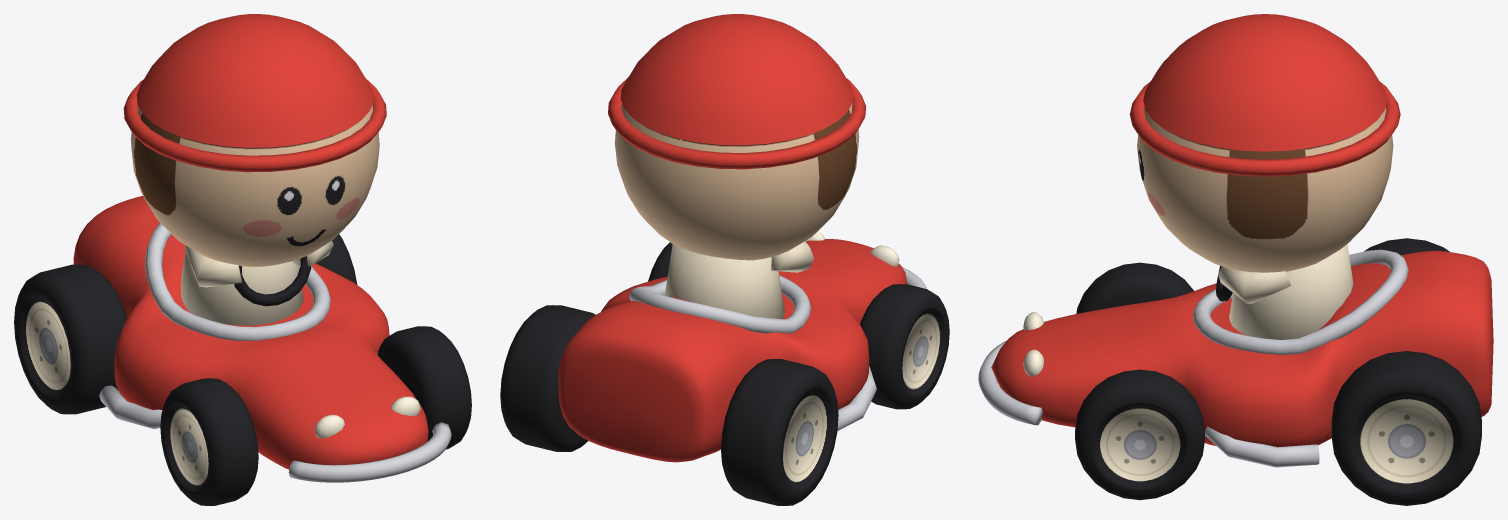
The model's file is racer.glb.
3 renders of one model, left to right at view 1: azimuth 30°, elevation 25°; view 2: azimuth 150°, elevation 25°; view 3: azimuth 270°, elevation 25°, orthographic. The views are drawn at different scales.
Visible parts, largest first — view 1: body, cap, character, wheel-back-right, wheel-front-right, wheel-front-left, trim-lip, trim-chrome, trim-steer, trim-lamps, wheel-back-left; view 2: body, cap, character, wheel-back-right, wheel-front-right, wheel-back-left, trim-lip, trim-chrome, trim-lamps, wheel-front-left; view 3: body, cap, character, wheel-back-left, wheel-front-left, trim-lip, trim-chrome, wheel-front-right, wheel-back-right, trim-lamps.
Boxes of the visible parts, x1,y1,x2,y2 form: body: [73, 196, 428, 469]; cap: [123, 14, 386, 172]; character: [130, 104, 379, 325]; wheel-back-right: [14, 264, 127, 414]; wheel-front-right: [160, 378, 258, 505]; wheel-front-left: [378, 326, 471, 449]; trim-lip: [145, 223, 330, 340]; trim-chrome: [99, 385, 451, 482]; trim-steer: [234, 256, 311, 306]; trim-lamps: [314, 396, 420, 438]; wheel-back-left: [316, 234, 357, 284]; body: [558, 239, 906, 462]; cap: [608, 14, 865, 169]; character: [614, 103, 859, 319]; wheel-back-right: [721, 359, 838, 505]; wheel-front-right: [860, 284, 949, 409]; wheel-back-left: [500, 305, 595, 451]; trim-lip: [629, 275, 811, 333]; trim-chrome: [837, 267, 926, 430]; trim-lamps: [805, 231, 899, 267]; wheel-front-left: [648, 242, 672, 281]; body: [991, 250, 1493, 447]; cap: [1129, 14, 1400, 176]; character: [1137, 107, 1393, 339]; wheel-back-left: [1331, 351, 1481, 505]; wheel-front-left: [1075, 369, 1204, 500]; trim-lip: [1193, 249, 1408, 354]; trim-chrome: [978, 340, 1319, 467]; wheel-front-right: [1076, 262, 1193, 313]; wheel-back-right: [1364, 238, 1449, 255]; trim-lamps: [1023, 312, 1043, 376].
Bounding box in the file's own units: 0.98 × 1.34 × 1.51.
8 materials, 2 textured.
